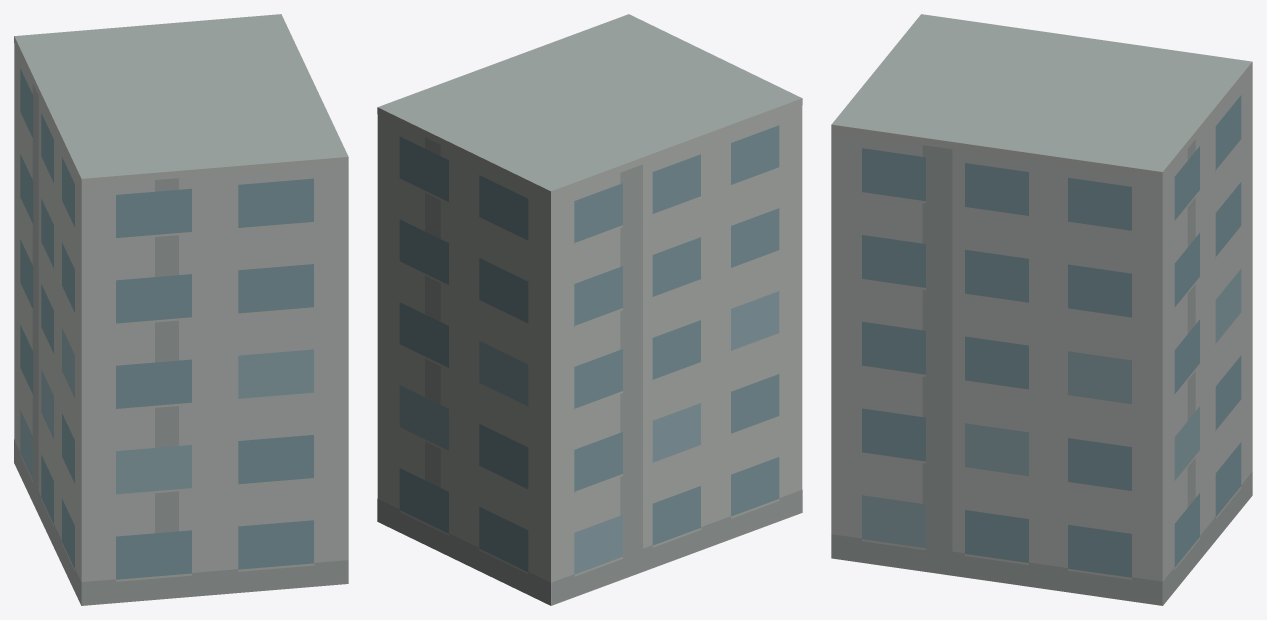
The model's file is survey-upis-32512735.glb.
The picture shows the model from 3 angles, left to right: view 1: azimuth 30°, elevation 25°; view 2: azimuth 150°, elevation 25°; view 3: azimuth 270°, elevation 25°; orthographic projection. The views are drawn at different scales.
Visible parts, largest first — view 1: survey-upis-32512735.tmp; view 2: survey-upis-32512735.tmp; view 3: survey-upis-32512735.tmp.
Part boxes in pixels (<box>): survey-upis-32512735.tmp: <box>14,14,348,605</box>; survey-upis-32512735.tmp: <box>377,14,802,605</box>; survey-upis-32512735.tmp: <box>831,14,1252,605</box>.
Size of the model in its own units: 11.19 by 14.3 by 12.59.
